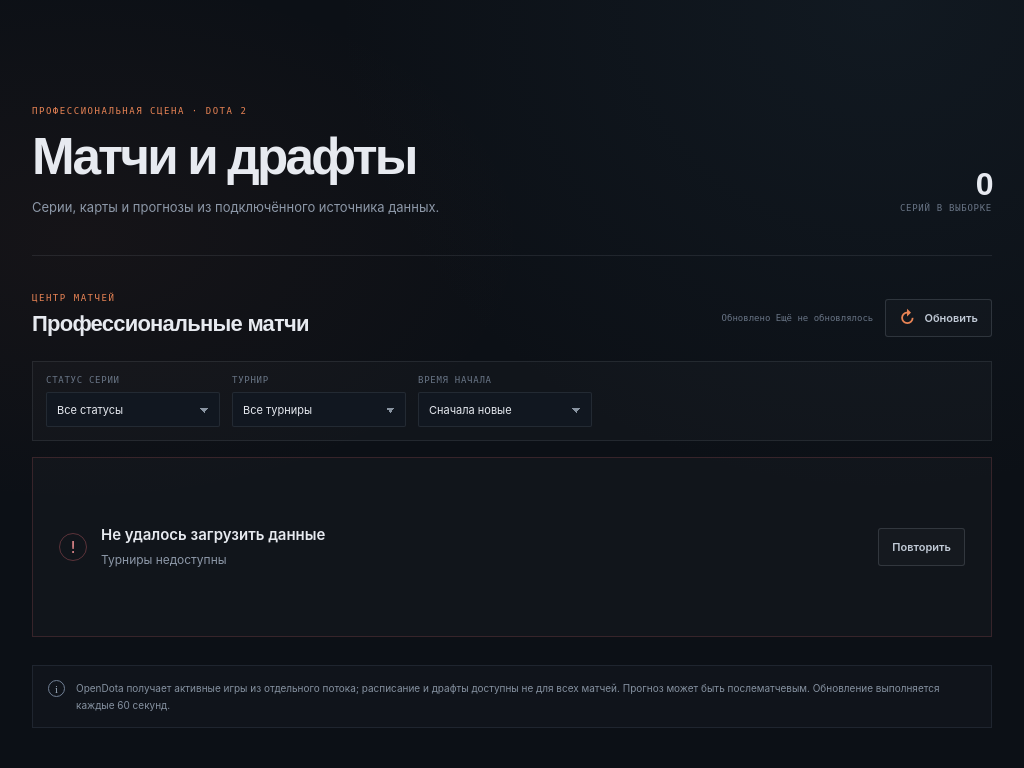
Test: DashboardPage match filters › reports tournament loading errors and allows retry
The width and height of the screenshot is (1024, 768).
Expected: the text "Турниры недоступны" is shown, [101,552,227,567]
Click the button "Обновить" at (939,318), box [885,299,992,337]
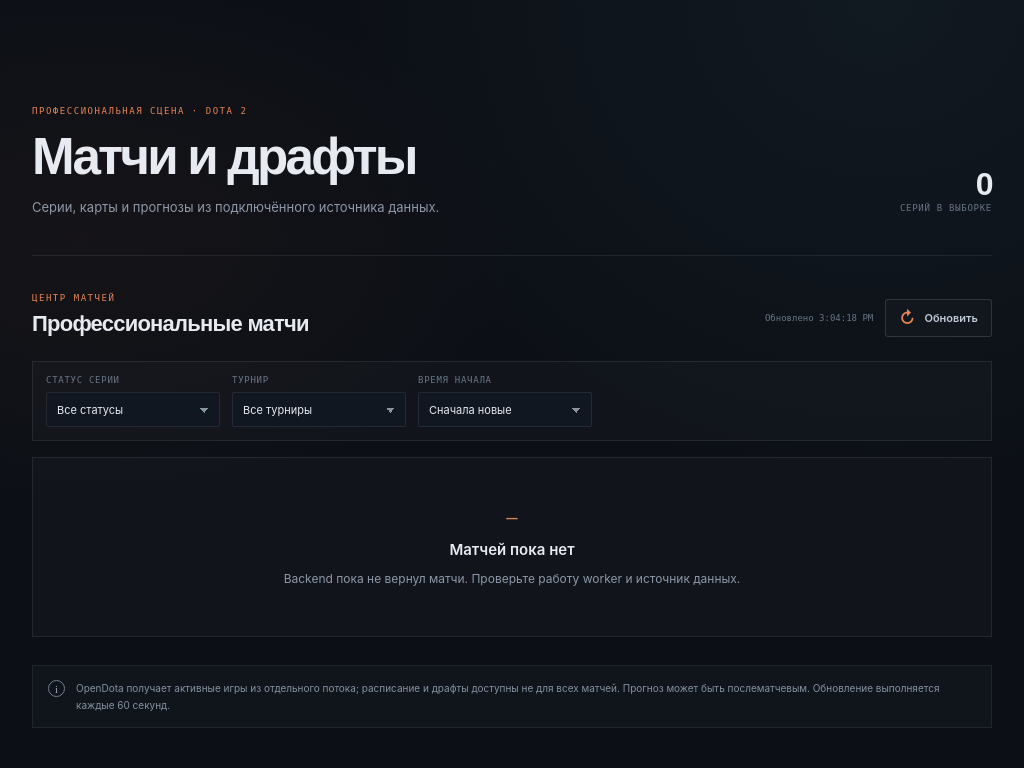
Expected: the text "Турниры недоступны" is gone
